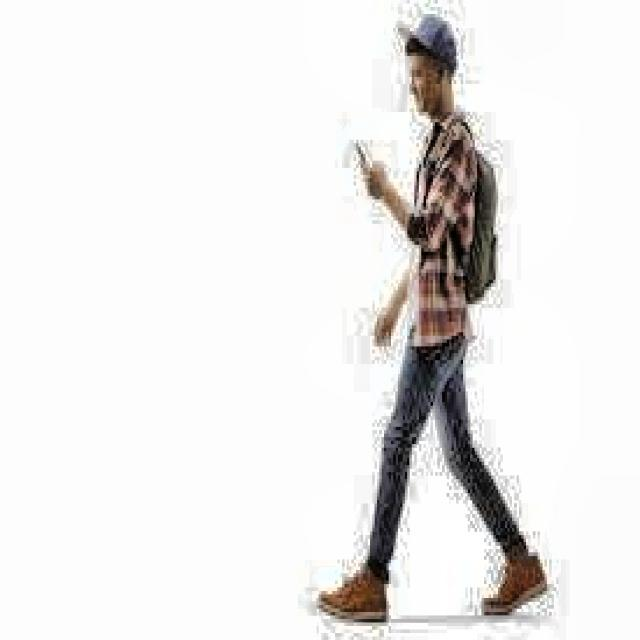Human: (357, 11, 558, 624)
